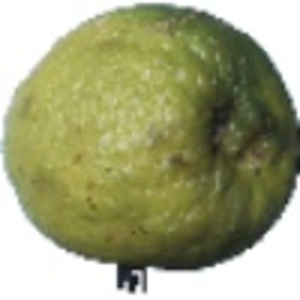limão: (1, 3, 300, 292)
